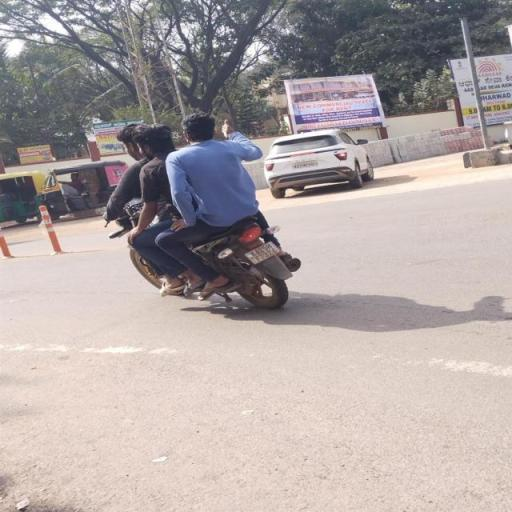tripple riding: (94, 111, 273, 232)
